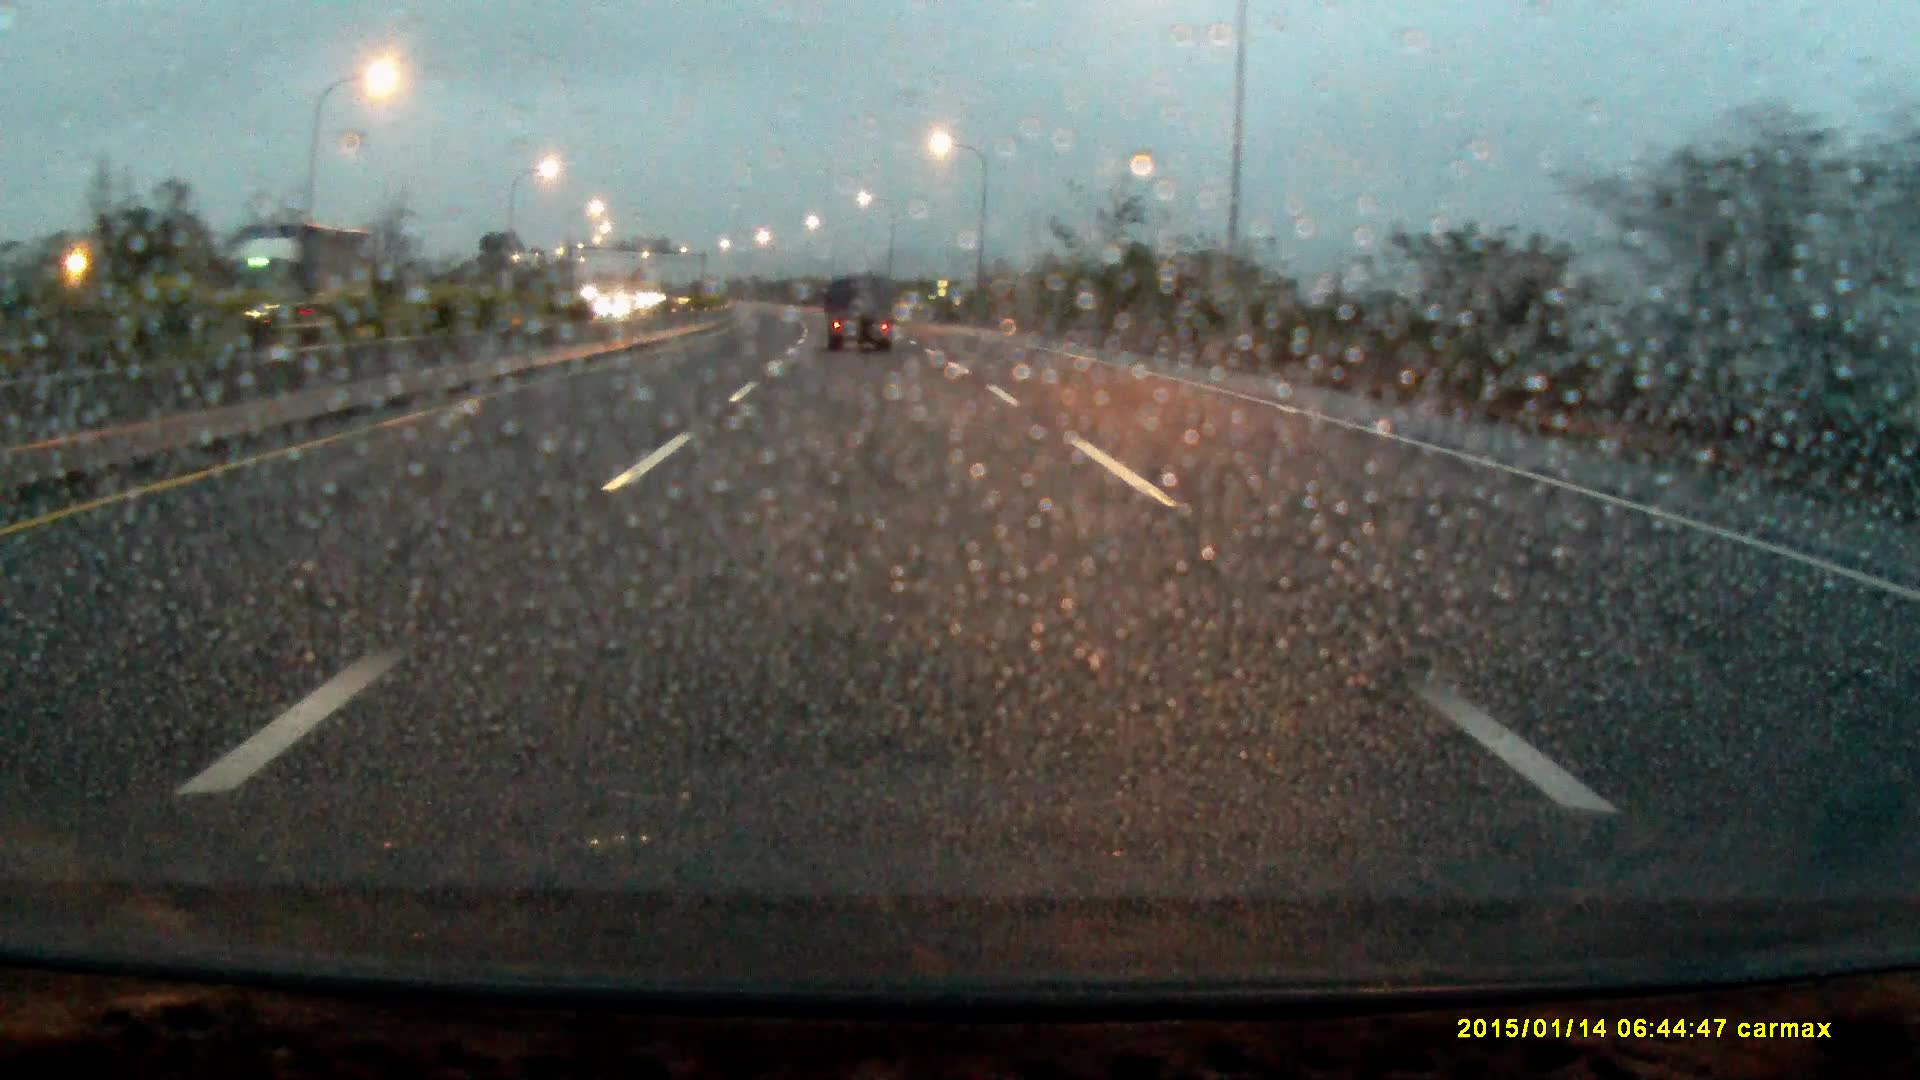vehicle: (198, 222, 375, 345), (825, 276, 899, 349), (603, 291, 645, 313)
